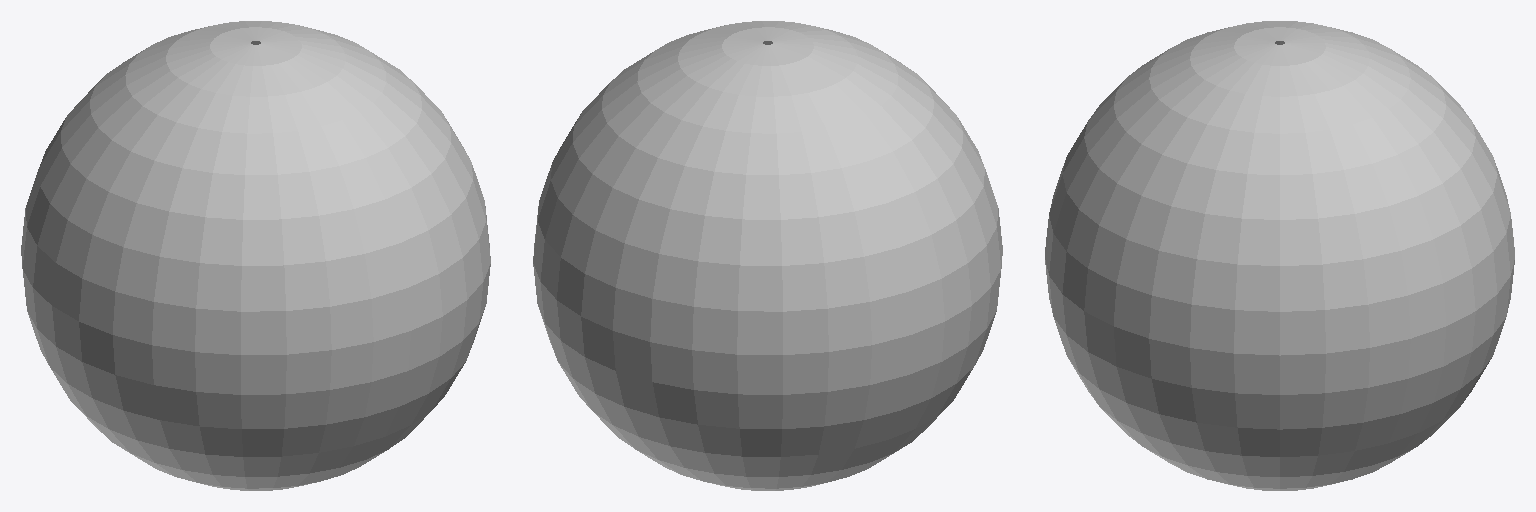
The model's file is world.obj.
The picture shows the model from 3 angles: view 1: azimuth 30°, elevation 25°; view 2: azimuth 150°, elevation 25°; view 3: azimuth 270°, elevation 25°; orthographic projection.
Visible parts, largest first — view 1: Sphere; view 2: Sphere; view 3: Sphere.
Part boxes in pixels (x1,y1,x2,y2): Sphere: (21,21,490,490); Sphere: (533,21,1002,490); Sphere: (1045,21,1514,490).
Size of the model in its own units: 2 by 2 by 2.